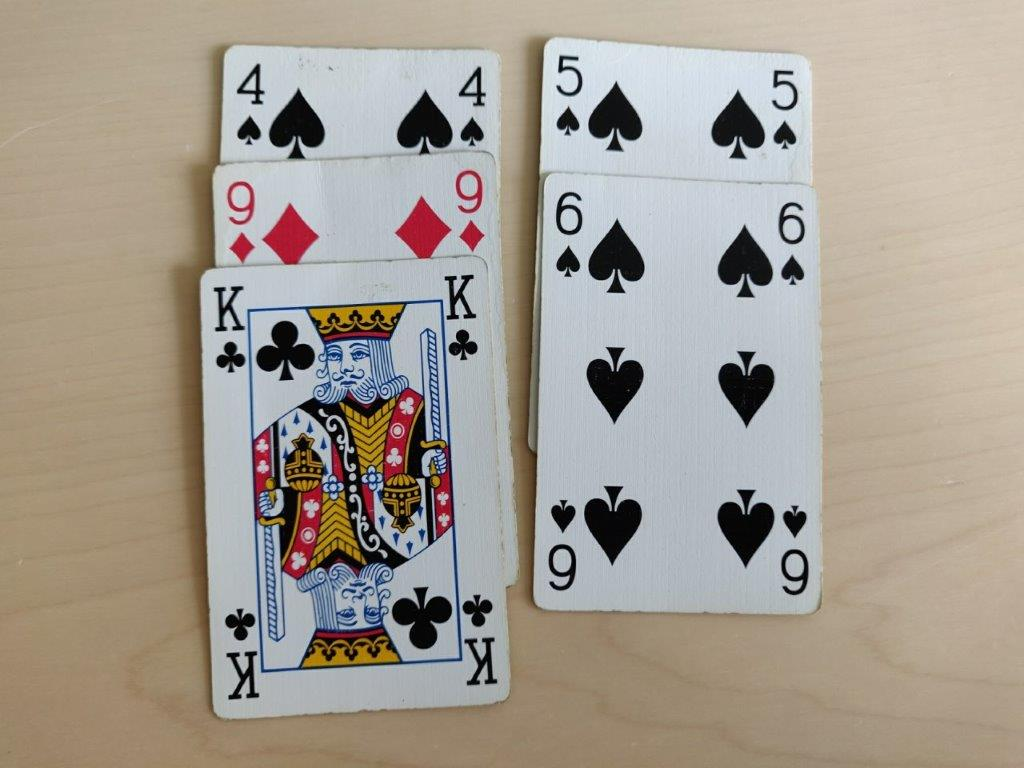4S: (231, 58, 268, 147), (455, 65, 491, 153)
5S: (765, 65, 804, 157), (550, 52, 588, 139)
6S: (550, 186, 586, 280), (773, 197, 809, 290)
9D: (450, 165, 492, 260), (222, 176, 261, 267)
KC: (440, 268, 484, 366), (208, 276, 250, 378)
